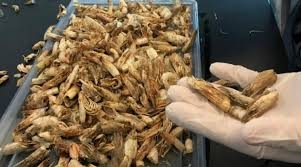kitchen_waste: (48, 139, 110, 166), (188, 77, 230, 110), (107, 106, 151, 134), (242, 67, 280, 96), (117, 127, 142, 167), (13, 142, 53, 167), (156, 28, 199, 50), (94, 53, 124, 81), (75, 96, 105, 123), (251, 91, 282, 117), (139, 70, 160, 108), (34, 115, 70, 137), (220, 84, 254, 106), (80, 13, 107, 40), (61, 78, 81, 110)
